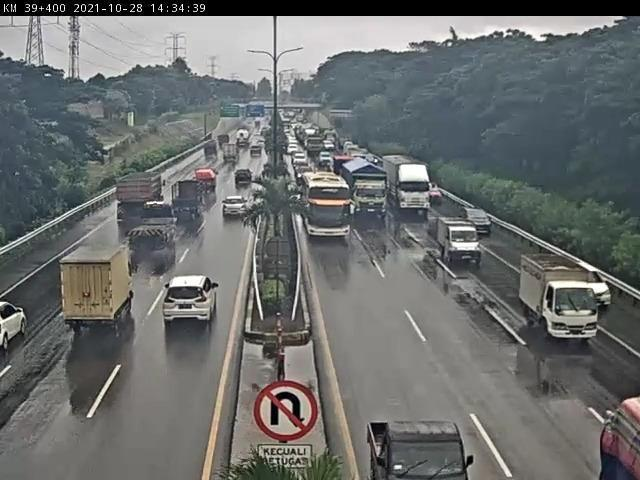bus: (303, 124, 316, 131)
car: (371, 406, 472, 480), (67, 240, 137, 334), (300, 170, 358, 244), (165, 272, 217, 331), (441, 216, 486, 271), (2, 288, 29, 358), (577, 262, 613, 309), (176, 178, 203, 224), (464, 208, 495, 239), (197, 167, 221, 193), (227, 195, 247, 220), (236, 165, 255, 190), (428, 183, 447, 208), (205, 135, 219, 164), (225, 142, 239, 166), (295, 150, 309, 169), (250, 143, 262, 161), (322, 152, 333, 171), (220, 132, 231, 150), (289, 145, 299, 158), (350, 145, 361, 154), (326, 142, 334, 150)
truck: (521, 248, 606, 351), (387, 151, 436, 219), (349, 159, 394, 224), (120, 166, 163, 216), (141, 200, 175, 247), (302, 136, 329, 155), (239, 127, 251, 151)
